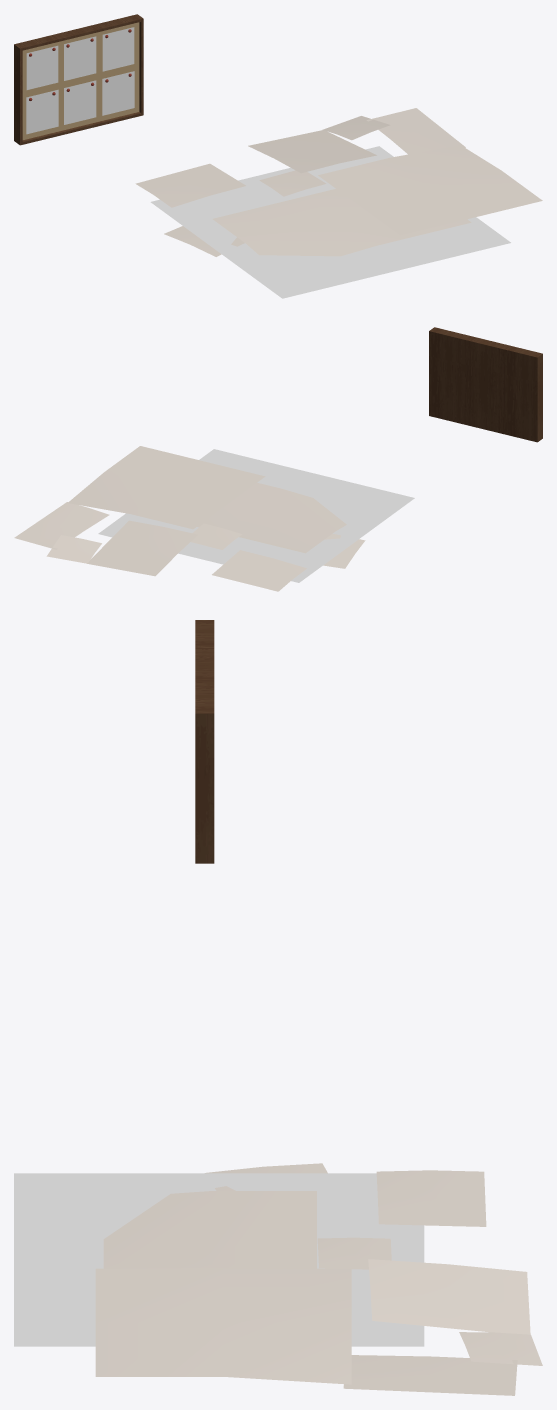
File: corkboard.glb
3 views of the same model, one above another, from view 1: azimuth 30°, elevation 25°; view 2: azimuth 150°, elevation 25°; view 3: azimuth 270°, elevation 25° (orthographic). The views are drawn at different scales.
Parts seen in each view (by area): view 1: Cube.11647_0, Plane, Cube.11647, Plane.006, Plane.002, Plane.001, Plane.003, Plane.004, Plane.005; view 2: Cube.11647_0, Cube.11647, Plane; view 3: Cube.11647_0, Plane, Cube.11647.
Part boxes in pixels (left/top/right/bottom): Cube.11647_0: left=135, top=108, right=542, bottom=256; Plane: left=150, top=146, right=510, bottom=298; Cube.11647: left=14, top=14, right=143, bottom=145; Plane.006: left=102, top=71, right=134, bottom=115; Plane.002: left=64, top=36, right=96, bottom=80; Plane.001: left=26, top=45, right=58, bottom=89; Plane.003: left=102, top=27, right=134, bottom=71; Plane.004: left=26, top=89, right=58, bottom=134; Plane.005: left=64, top=80, right=96, bottom=124; Cube.11647_0: left=14, top=446, right=365, bottom=591; Cube.11647: left=429, top=327, right=542, bottom=442; Plane: left=98, top=449, right=414, bottom=582; Cube.11647_0: left=95, top=1163, right=542, bottom=1395; Plane: left=14, top=1173, right=424, bottom=1346; Cube.11647: left=195, top=620, right=214, bottom=863.
Size of the model in its own units: 4.36 by 2.17 by 2.58.
14 materials, 1 textured.
